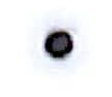cancer: (25, 14, 93, 74)
